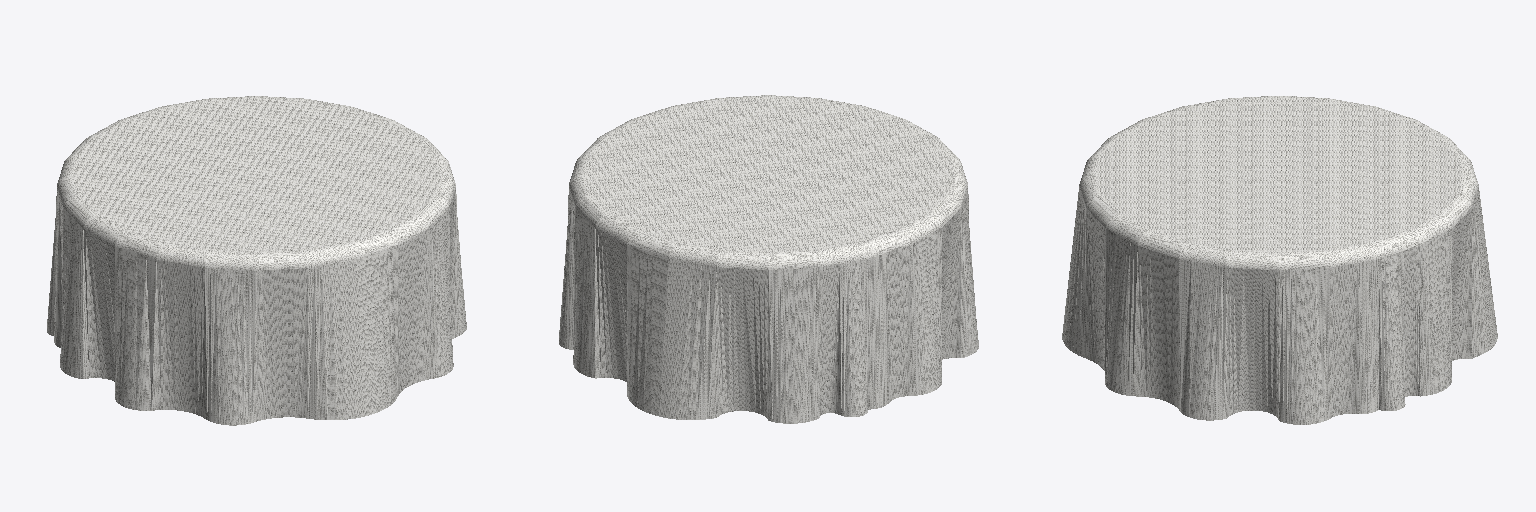
The picture shows the model from 3 angles: view 1: azimuth 30°, elevation 25°; view 2: azimuth 150°, elevation 25°; view 3: azimuth 270°, elevation 25°; orthographic projection.
Visible parts, largest first — view 1: Mesh11131Component_20_1Componente_8_1Mesa_de_Casamento1Group1839; view 2: Mesh11131Component_20_1Componente_8_1Mesa_de_Casamento1Group1839; view 3: Mesh11131Component_20_1Componente_8_1Mesa_de_Casamento1Group1839.
Part boxes in pixels (x1,y1,x2,y2): Mesh11131Component_20_1Componente_8_1Mesa_de_Casamento1Group1839: (47, 96, 466, 425); Mesh11131Component_20_1Componente_8_1Mesa_de_Casamento1Group1839: (559, 95, 978, 423); Mesh11131Component_20_1Componente_8_1Mesa_de_Casamento1Group1839: (1062, 96, 1497, 424).
Bounding box in the file's own units: 1.75 × 0.75 × 1.83.
1 materials, 1 textured.